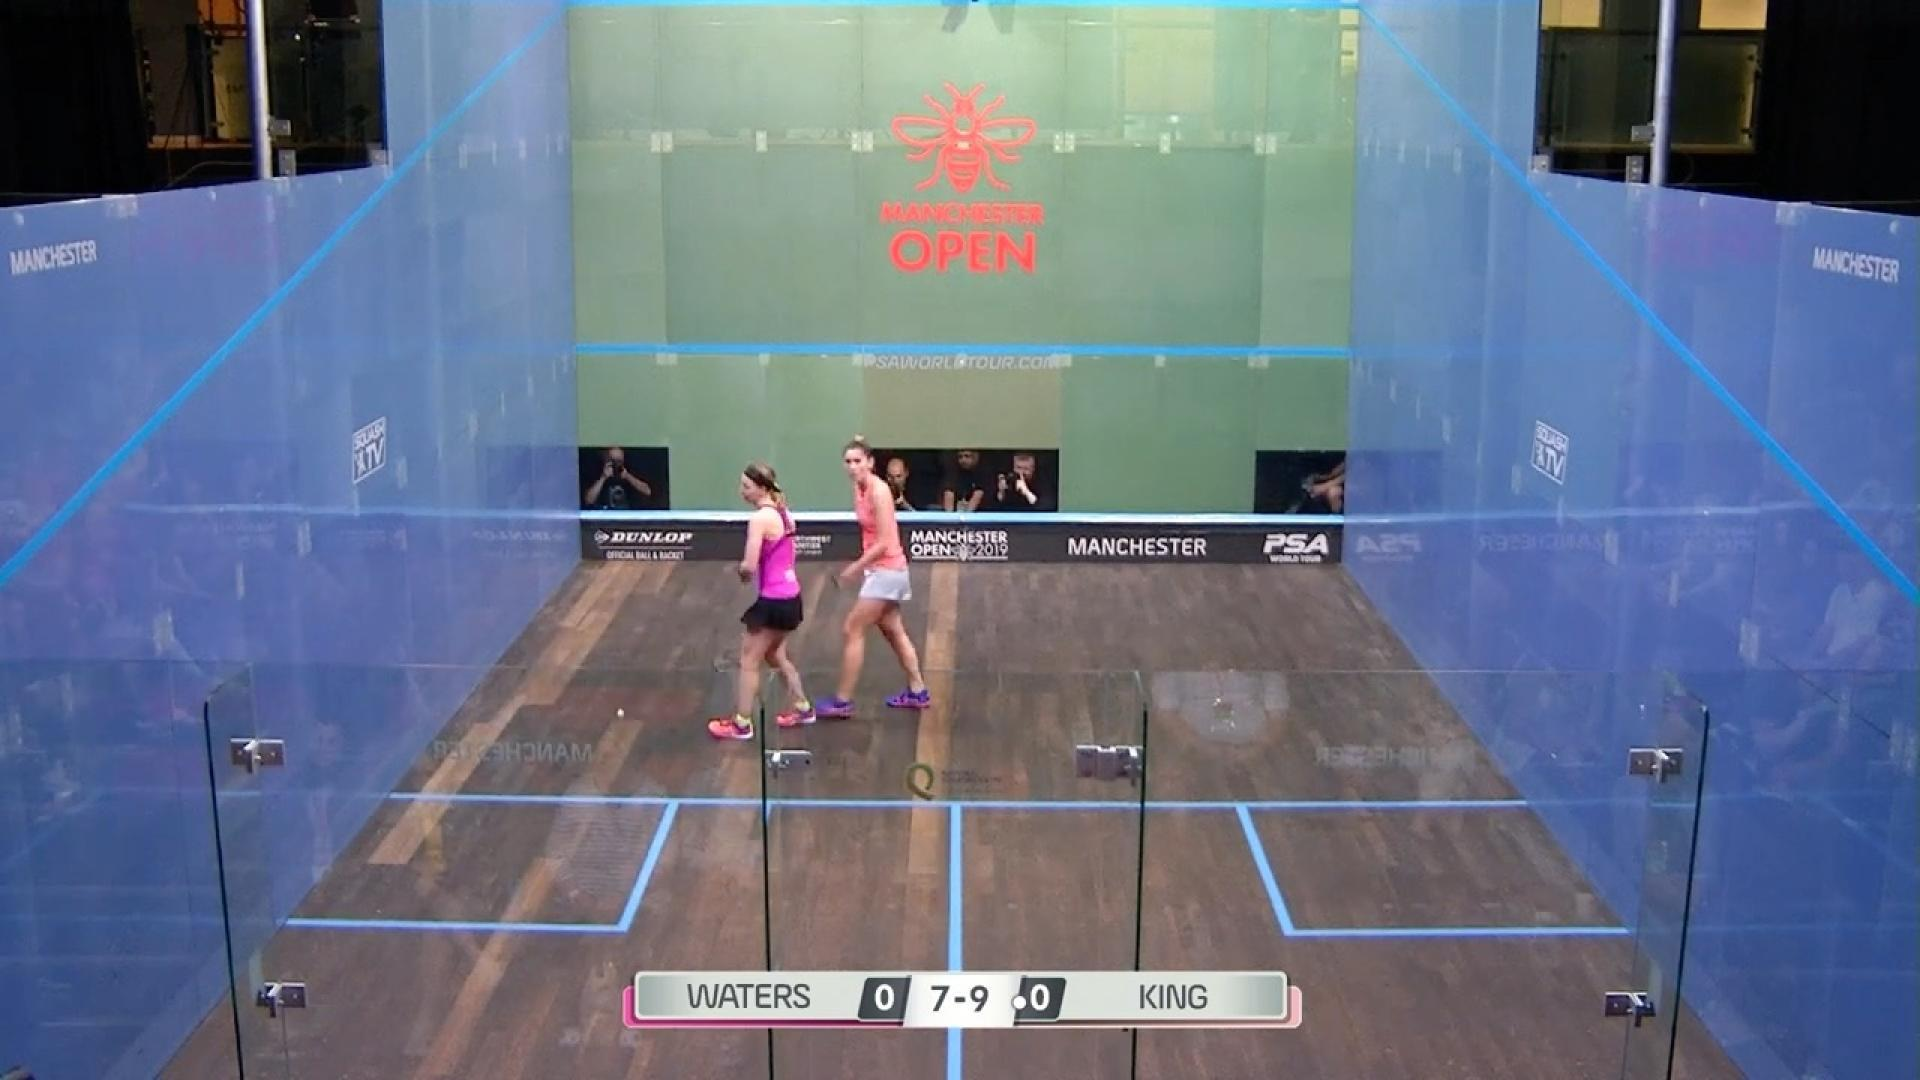Squash-Ball: (600, 688, 640, 735)
